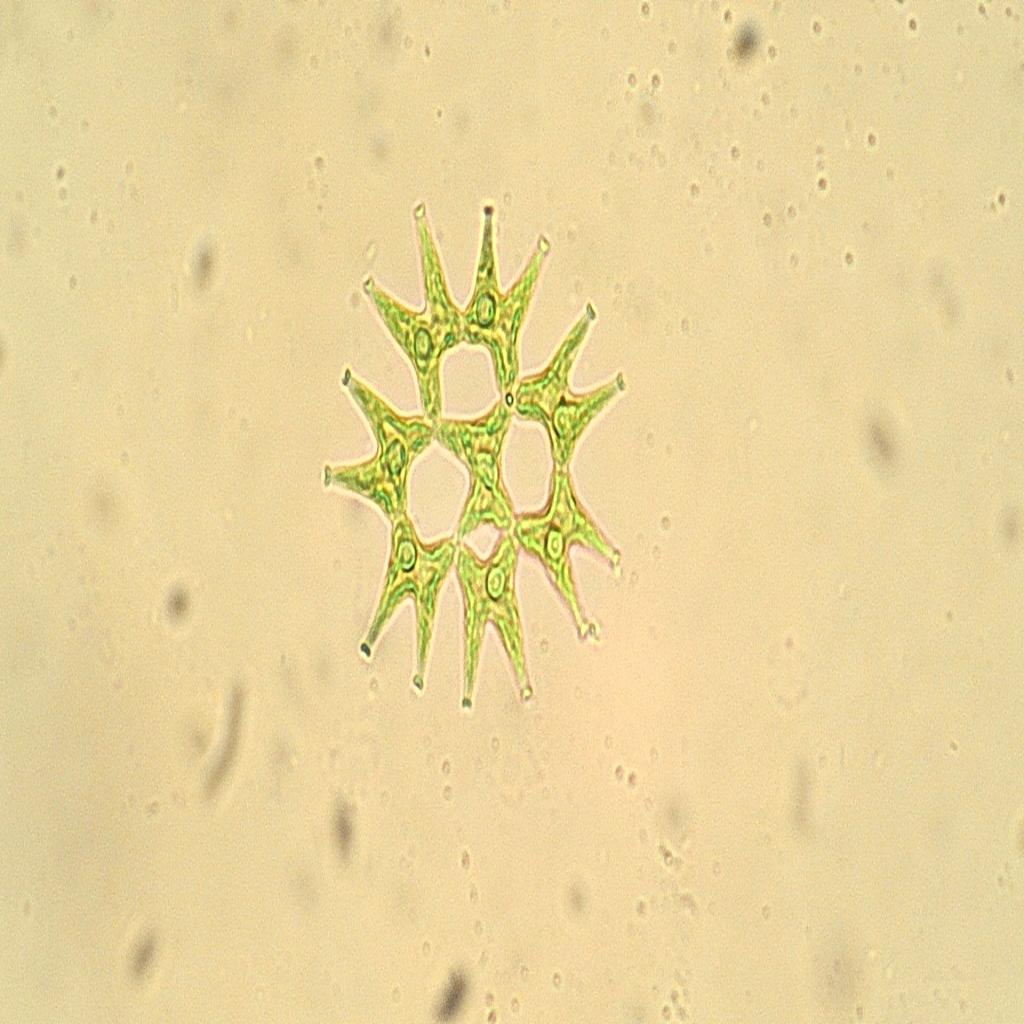Pediastrum_CTH: (315, 172, 647, 730)
